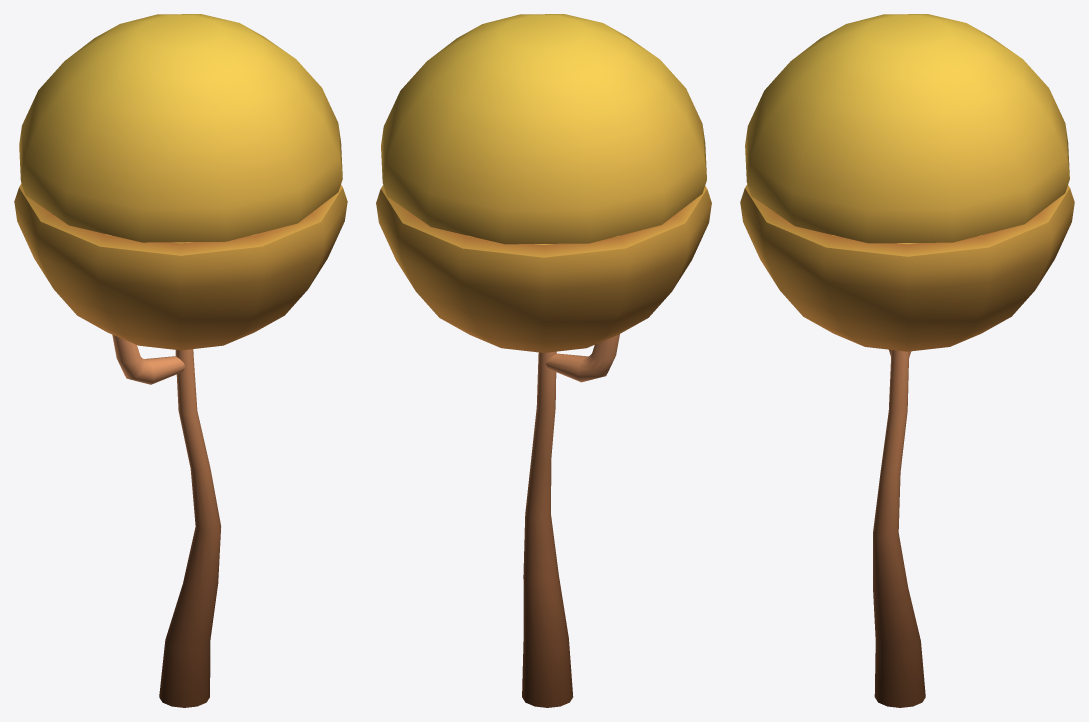
The model's file is lpb_tree_4_c.fbx.
3 renders of one model, left to right at view 1: azimuth 30°, elevation 25°; view 2: azimuth 150°, elevation 25°; view 3: azimuth 270°, elevation 25°, orthographic.
Parts seen in each view (by area): view 1: ap_tree_4.002; view 2: ap_tree_4.002; view 3: ap_tree_4.002.
Part boxes in pixels (x1,y1,x2,y2): ap_tree_4.002: (14, 14, 347, 707); ap_tree_4.002: (376, 14, 711, 707); ap_tree_4.002: (740, 14, 1074, 707).
Bounding box in the file's own units: 243 × 531 × 243.
